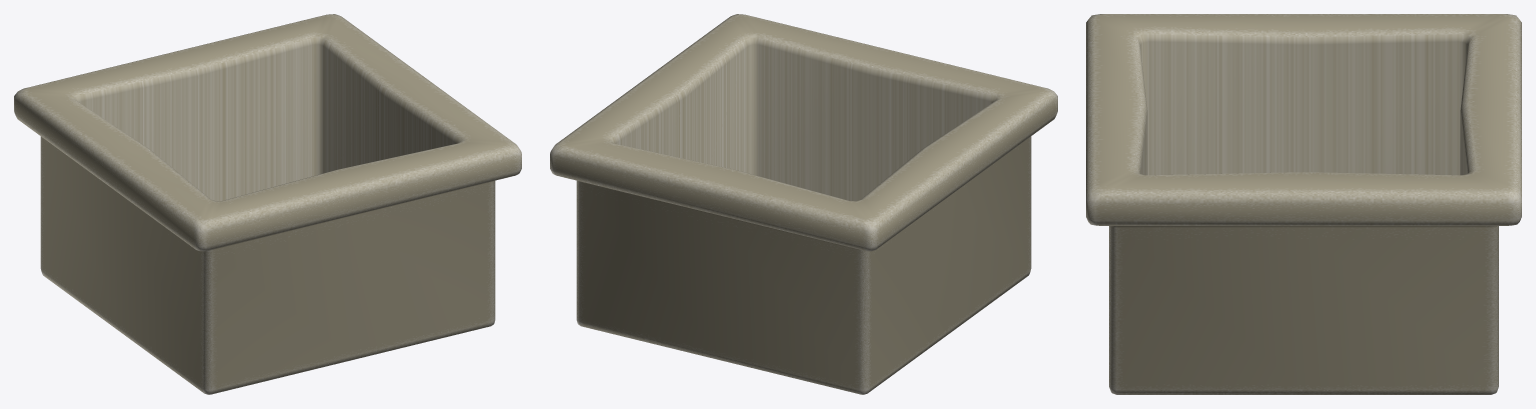
File: cook_trash.fbx
3 views of the same model, side by side, from view 1: azimuth 30°, elevation 25°; view 2: azimuth 150°, elevation 25°; view 3: azimuth 270°, elevation 25° (orthographic). The views are drawn at different scales.
Parts seen in each view (by area): view 1: Cube; view 2: Cube; view 3: Cube.
Part boxes in pixels (bbox=[...]): Cube: bbox=[14, 14, 521, 394]; Cube: bbox=[550, 14, 1057, 394]; Cube: bbox=[1086, 14, 1521, 394].
Size of the model in its own units: 185 by 100 by 185.
Materials: 1 (1 with a texture image).
